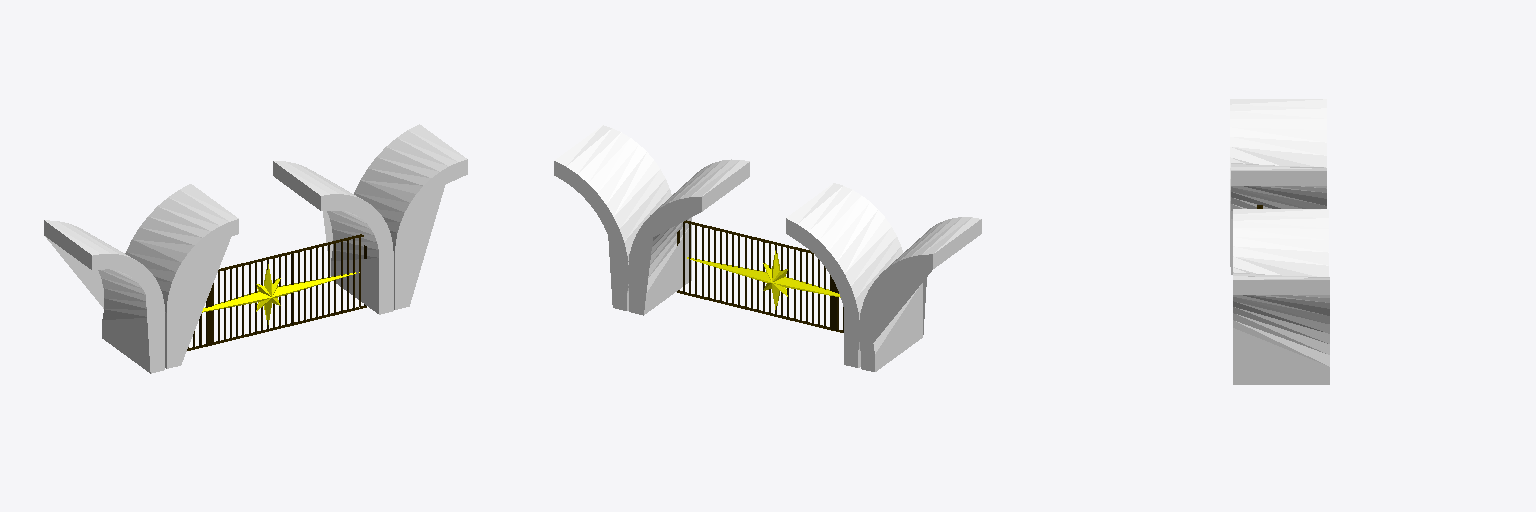
Rendered from nustgatethree.obj.
3 views of the same model, side by side, from view 1: azimuth 30°, elevation 25°; view 2: azimuth 150°, elevation 25°; view 3: azimuth 270°, elevation 25° (orthographic).
Parts seen in each view (by area): view 1: Mesh1 Model, Mesh4 Model, Mesh2 Model, Mesh3 Model; view 2: Mesh1 Model, Mesh2 Model, Mesh4 Model, Mesh3 Model; view 3: Mesh2 Model, Mesh3 Model, Mesh1 Model, Mesh4 Model.
Part boxes in pixels (x1,y1,x2,y2): Mesh1 Model: (187, 161, 393, 350); Mesh4 Model: (125, 184, 238, 368); Mesh2 Model: (354, 124, 467, 309); Mesh3 Model: (44, 220, 164, 373); Mesh1 Model: (628, 159, 843, 332); Mesh2 Model: (554, 125, 671, 310); Mesh4 Model: (786, 183, 902, 367); Mesh3 Model: (860, 217, 981, 371); Mesh2 Model: (1233, 272, 1329, 384); Mesh3 Model: (1230, 99, 1326, 266); Mesh1 Model: (1233, 205, 1328, 276); Mesh4 Model: (1231, 163, 1326, 274).
Size of the model in its own units: 156 by 53.43 by 35.72.